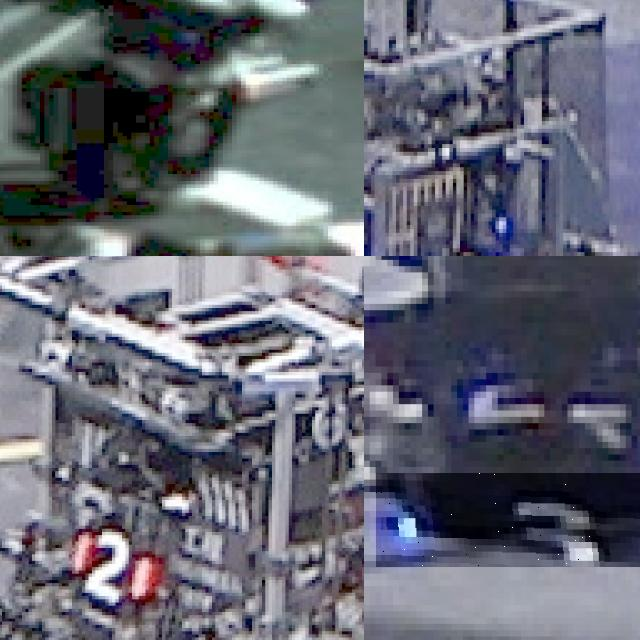B3: (375, 473, 640, 567)
R2: (60, 527, 154, 607)
